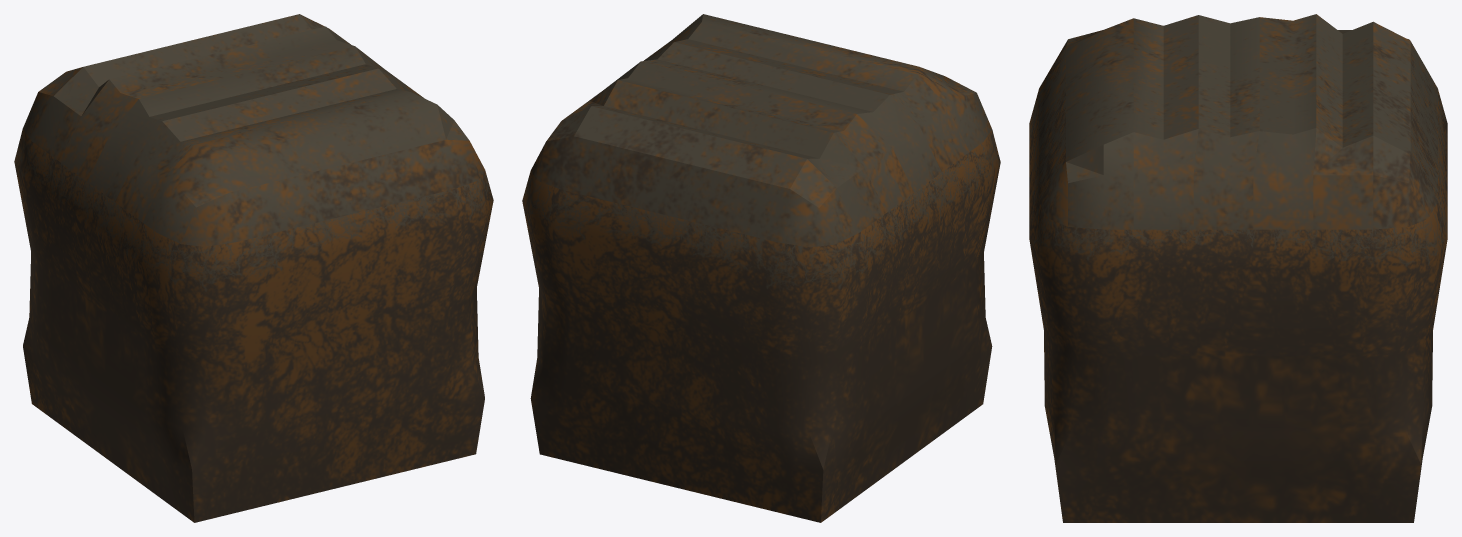
Rendered from blockSlowMud.obj.
The picture shows the model from 3 angles, left to right: view 1: azimuth 30°, elevation 25°; view 2: azimuth 150°, elevation 25°; view 3: azimuth 270°, elevation 25°; orthographic projection. The views are drawn at different scales.
Parts seen in each view (by area): view 1: blockMud; view 2: blockMud; view 3: blockMud.
Boxes of the visible parts, x1,y1,x2,y2 form: blockMud: [14, 14, 493, 522]; blockMud: [522, 14, 1000, 522]; blockMud: [1029, 14, 1447, 522].
Bounding box in the file's own units: 1.08 × 1.07 × 1.08.
1 material, 1 textured.
